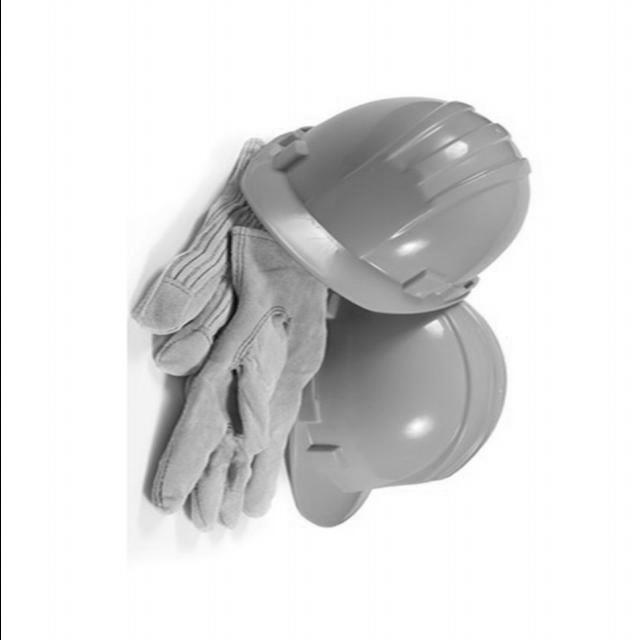construction helmet: (237, 95, 530, 314), (283, 291, 507, 529)
